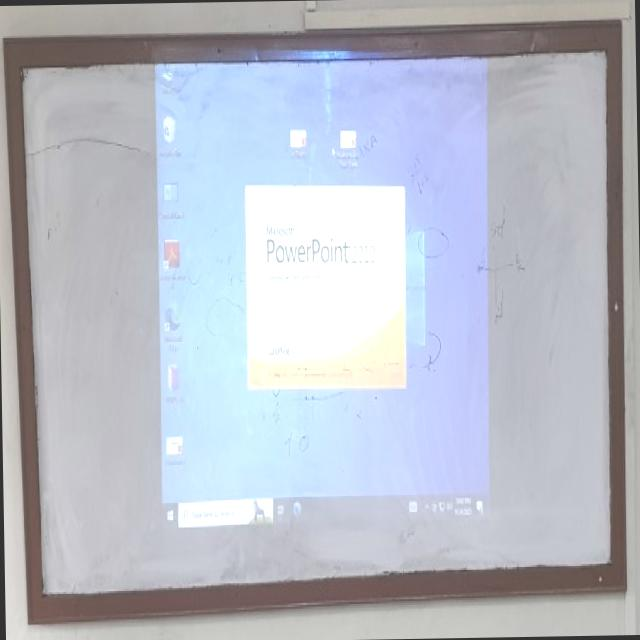Slide: (155, 38, 489, 541)
White-board: (7, 30, 623, 619)
